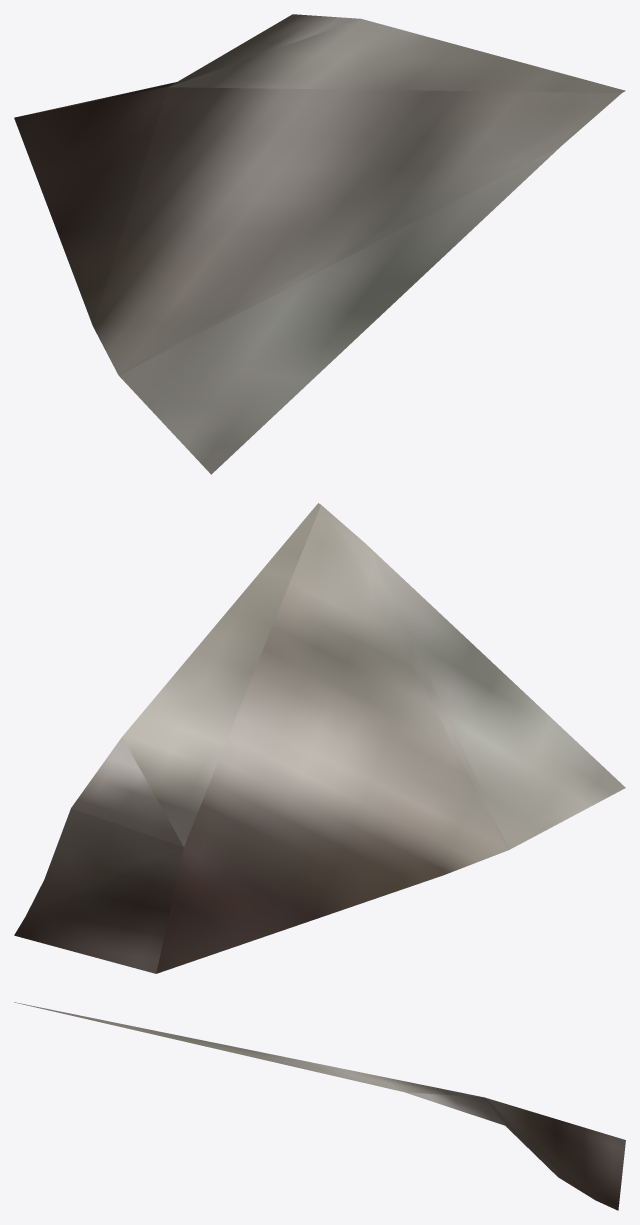
3 views of the same model, one above another, from view 1: azimuth 30°, elevation 25°; view 2: azimuth 150°, elevation 25°; view 3: azimuth 270°, elevation 25° (orthographic). The views are drawn at different scales.
Size of the model in its own units: 0.0359 by 0.0234 by 0.0623.
Materials: 1 (1 with a texture image).
